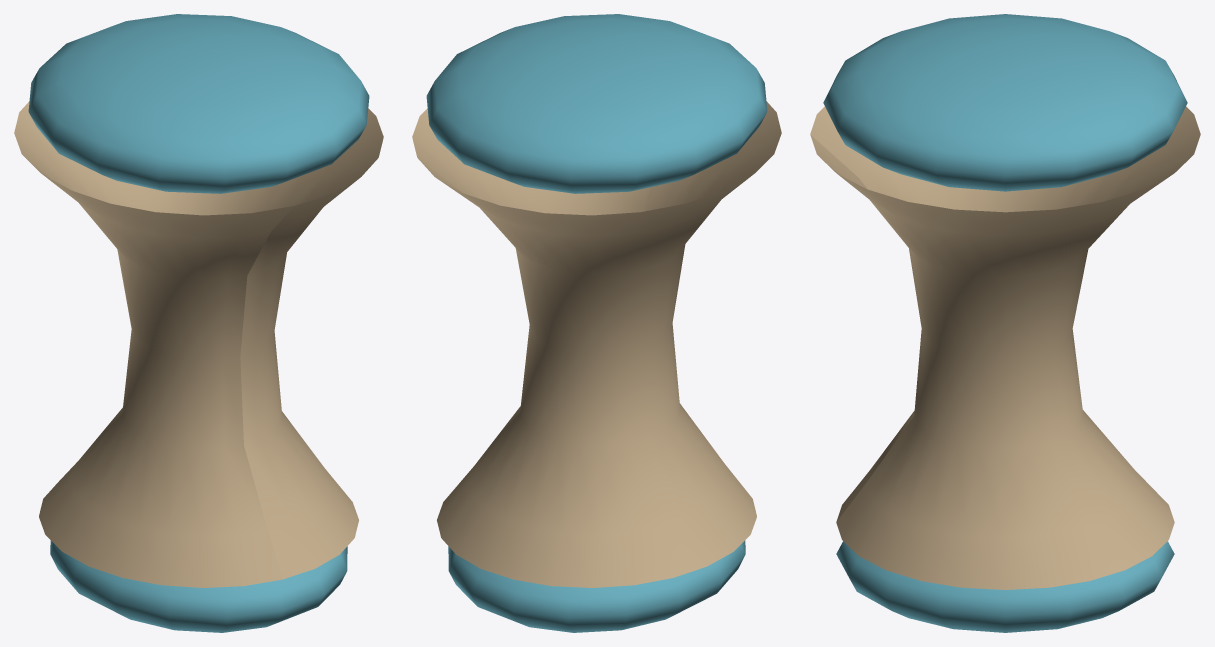
Rendered from left_digit_4_distal.glb.
The picture shows the model from 3 angles, left to right: view 1: azimuth 30°, elevation 25°; view 2: azimuth 150°, elevation 25°; view 3: azimuth 270°, elevation 25°; orthographic projection.
Visible parts, largest first — view 1: left_digit_4_distal:diaphysis, left_digit_4_distal:proximal-envelope, left_digit_4_distal:distal-envelope; view 2: left_digit_4_distal:diaphysis, left_digit_4_distal:proximal-envelope, left_digit_4_distal:distal-envelope; view 3: left_digit_4_distal:diaphysis, left_digit_4_distal:proximal-envelope, left_digit_4_distal:distal-envelope.
Boxes of the visible parts, box(x1,y1,x2,y2) form: left_digit_4_distal:diaphysis: box(14, 101, 383, 587); left_digit_4_distal:proximal-envelope: box(28, 14, 369, 193); left_digit_4_distal:distal-envelope: box(50, 540, 347, 632); left_digit_4_distal:diaphysis: box(412, 101, 781, 587); left_digit_4_distal:proximal-envelope: box(426, 14, 767, 193); left_digit_4_distal:distal-envelope: box(448, 540, 745, 632); left_digit_4_distal:diaphysis: box(810, 106, 1200, 589); left_digit_4_distal:proximal-envelope: box(823, 14, 1187, 191); left_digit_4_distal:distal-envelope: box(836, 541, 1174, 632).
Bounding box in the file's own units: 0.0247 × 0.0406 × 0.0261.
